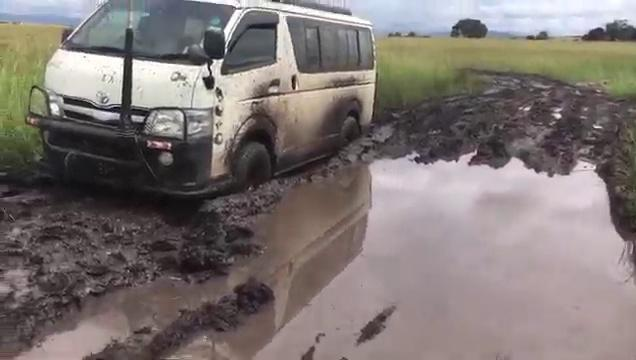Van: (26, 0, 386, 197)
